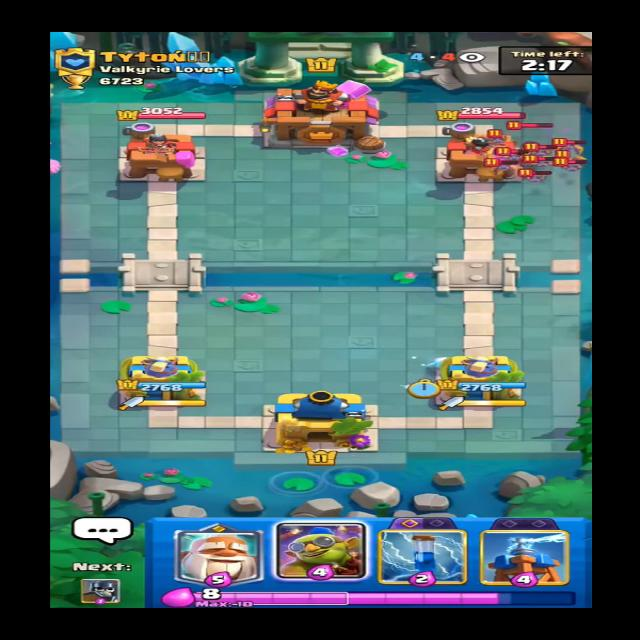bats: (505, 166, 555, 187), (481, 130, 516, 146), (553, 140, 589, 154), (562, 161, 588, 177), (533, 147, 556, 157)
